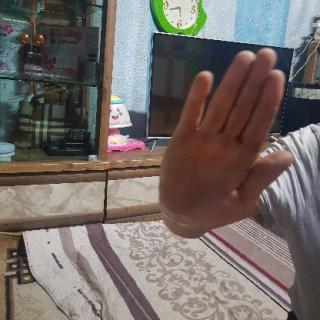SEEN: (154, 42, 297, 233)
